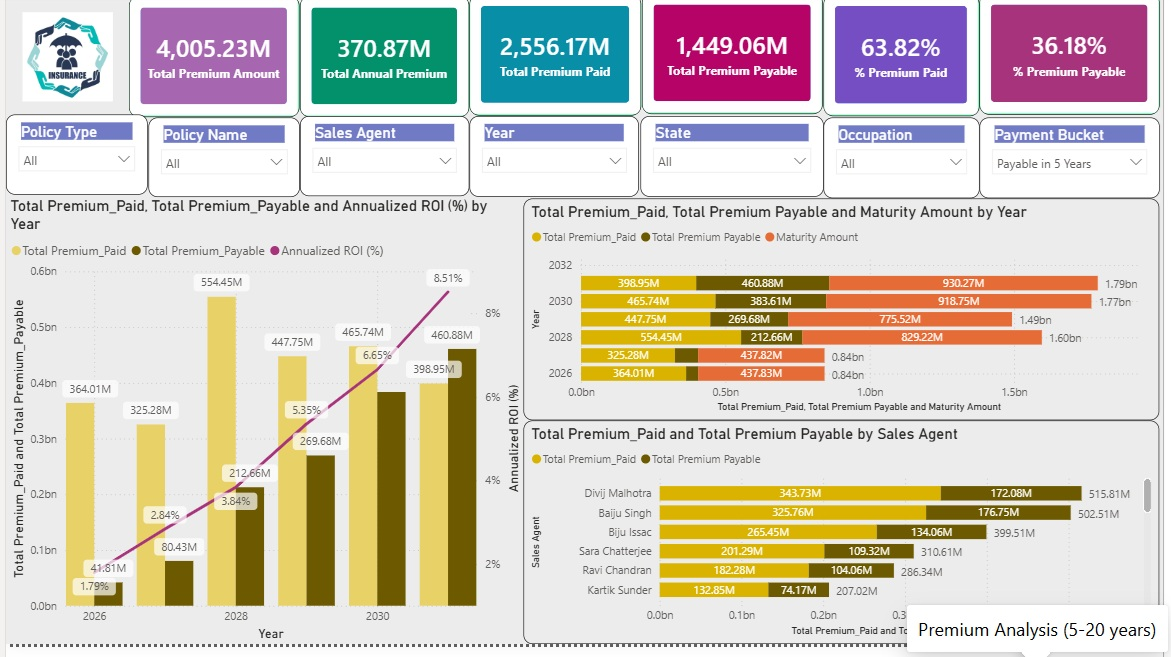

Layout of this report page (visuals, bound fields, positions):
{"tool":"powerbi","page":{"name":"Premium Analysis (5-20 years)","canvas":[1280,720],"ordinal":6},"visuals":[{"type":"cardVisual","fields":{"Data":["Sum(FCT Insurance_Policy_Table.Total Annual Premium)"]},"box":[325.5,3.2,187.1,133.9],"z":0},{"type":"cardVisual","fields":{"Data":["Sum(FCT Insurance_Policy_Table.Total Premium Amount)"]},"box":[136,3.2,188.7,133.9],"z":1000},{"type":"cardVisual","fields":{"Data":["Sum(FCT Insurance_Policy_Table.Total Premium Paid)"]},"box":[513.3,1.6,190.3,133.9],"z":2000},{"type":"cardVisual","fields":{"Data":["Sum(FCT Insurance_Policy_Table.Total Premium Payable)"]},"box":[704.4,0,200,133.9],"z":3000},{"type":"cardVisual","fields":{"Data":["FCT Insurance_Policy_Table.% Premium Paid"]},"box":[904.4,1.7,172.6,134.4],"z":4000},{"type":"image","box":[17.7,16.1,100,108.1],"z":5000},{"type":"slicer","fields":{"Values":["DM Policy_Type.Policy Type"]},"box":[0,133.9,156.5,88.7],"z":6000},{"type":"slicer","fields":{"Values":["DM Policy_Protection_Plan.Policy Name"]},"box":[157.7,137.7,167.6,88],"z":7000},{"type":"slicer","fields":{"Values":["DM Insurance_Agent_Table.Sales Agent"]},"box":[325.3,136.1,187.1,88.7],"z":8000},{"type":"slicer","fields":{"Values":["FCT Insurance_Policy_Table.Start Date.Variation.Date Hierarchy.Year"]},"box":[512.8,136.1,187.5,89.6],"z":9000},{"type":"slicer","fields":{"Values":["DM Customer_Detail_Table.Occupation"]},"box":[904.4,137.7,172.6,89.6],"z":10000},{"type":"slicer","fields":{"Values":["DM Customer_Detail_Table.State"]},"box":[702,136.1,202.5,89.6],"z":11000},{"type":"cardVisual","fields":{"Data":["FCT Insurance_Policy_Table.% Premium Payable"]},"box":[1077,0,199.1,134.4],"z":12000},{"type":"lineClusteredColumnComboChart","fields":{"Category":["FCT Insurance_Policy_Table.Tenure Date.Variation.Date Hierarchy.Year","FCT Insurance_Policy_Table.Tenure Date.Variation.Date Hierarchy.Quarter","FCT Insurance_Policy_Table.Tenure Date.Variation.Date Hierarchy.Month","FCT Insurance_Policy_Table.Tenure Date.Variation.Date Hierarchy.Day"],"Y":["FCT Insurance_Policy_Table.Total Premium_Paid","FCT Insurance_Policy_Table.Total Premium_Payable"],"Y2":["Avg(FCT Insurance_Policy_Table.Annualized ROI (%))"]},"box":[0,226.3,573,494.9],"z":13000},{"type":"slicer","fields":{"Values":["FCT Insurance_Policy_Table.Payment Bucket"]},"box":[1077,137.7,199.1,89.6],"z":14000},{"type":"barChart","fields":{"Category":["FCT Insurance_Policy_Table.Tenure Date.Variation.Date Hierarchy.Year","FCT Insurance_Policy_Table.Tenure Date.Variation.Date Hierarchy.Quarter","FCT Insurance_Policy_Table.Tenure Date.Variation.Date Hierarchy.Month","FCT Insurance_Policy_Table.Tenure Date.Variation.Date Hierarchy.Day"],"Y":["FCT Insurance_Policy_Table.Total Premium_Paid","Sum(FCT Insurance_Policy_Table.Total Premium Payable)","Sum(FCT Insurance_Policy_Table.Maturity Amount)"]},"box":[572.5,227.3,703.6,245.6],"z":15000},{"type":"barChart","fields":{"Y":["FCT Insurance_Policy_Table.Total Premium_Paid","Sum(FCT Insurance_Policy_Table.Total Premium Payable)"],"Category":["DM Insurance_Agent_Table.Sales Agent"]},"box":[572.5,473,703.6,247.3],"z":16000}]}

Visuals, with their boxes in screenshot pixels (x1, y1, x2, y2), scaled from the page's 1280x720 canvas onto the 1171x657 screenshot:
cardVisual - Sum(FCT Insurance_Policy_Table.Total Annual Premium): 298 3 469 125
cardVisual - Sum(FCT Insurance_Policy_Table.Total Premium Amount): 124 3 297 125
cardVisual - Sum(FCT Insurance_Policy_Table.Total Premium Paid): 470 1 644 124
cardVisual - Sum(FCT Insurance_Policy_Table.Total Premium Payable): 644 0 827 122
cardVisual - FCT Insurance_Policy_Table.% Premium Paid: 827 2 985 124
image: 16 15 108 113
slicer - DM Policy_Type.Policy Type: 0 122 143 203
slicer - DM Policy_Protection_Plan.Policy Name: 144 126 298 206
slicer - DM Insurance_Agent_Table.Sales Agent: 298 124 469 205
slicer - FCT Insurance_Policy_Table.Start Date.Variation.Date Hierarchy.Year: 469 124 641 206
slicer - DM Customer_Detail_Table.Occupation: 827 126 985 207
slicer - DM Customer_Detail_Table.State: 642 124 827 206
cardVisual - FCT Insurance_Policy_Table.% Premium Payable: 985 0 1167 123
lineClusteredColumnComboChart - FCT Insurance_Policy_Table.Tenure Date.Variation.Date Hierarchy.Year x FCT Insurance_Policy_Table.Tenure Date.Variation.Date Hierarchy.Quarter: 0 206 524 656
slicer - FCT Insurance_Policy_Table.Payment Bucket: 985 126 1167 207
barChart - FCT Insurance_Policy_Table.Tenure Date.Variation.Date Hierarchy.Year x FCT Insurance_Policy_Table.Tenure Date.Variation.Date Hierarchy.Quarter: 524 207 1167 432
barChart - FCT Insurance_Policy_Table.Total Premium_Paid x Sum(FCT Insurance_Policy_Table.Total Premium Payable): 524 432 1167 656
